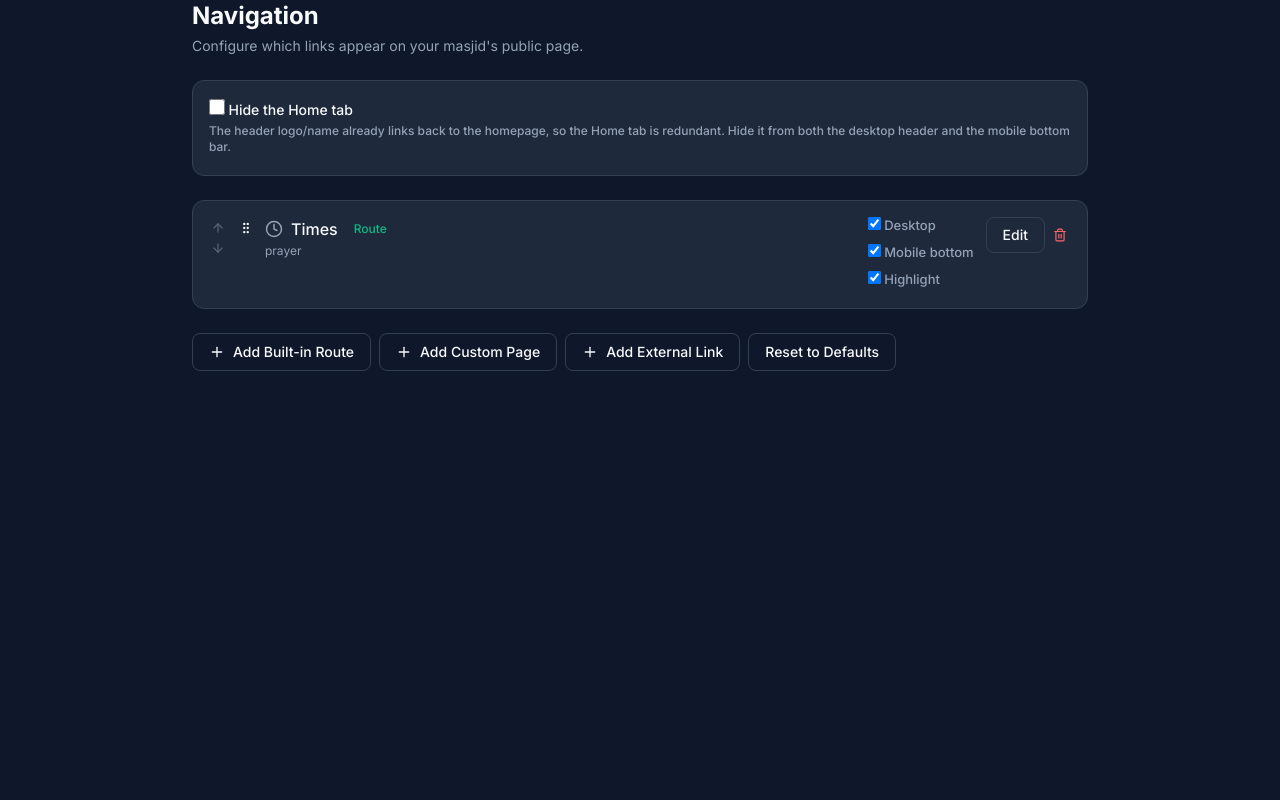
Scenario: Navigation settings page › delete › shows confirmation dialog on delete click
Expected: the text "Times" is shown, [291,216,338,240]
Click the 3rd button at (1060, 235), box [1049,224,1071,246]
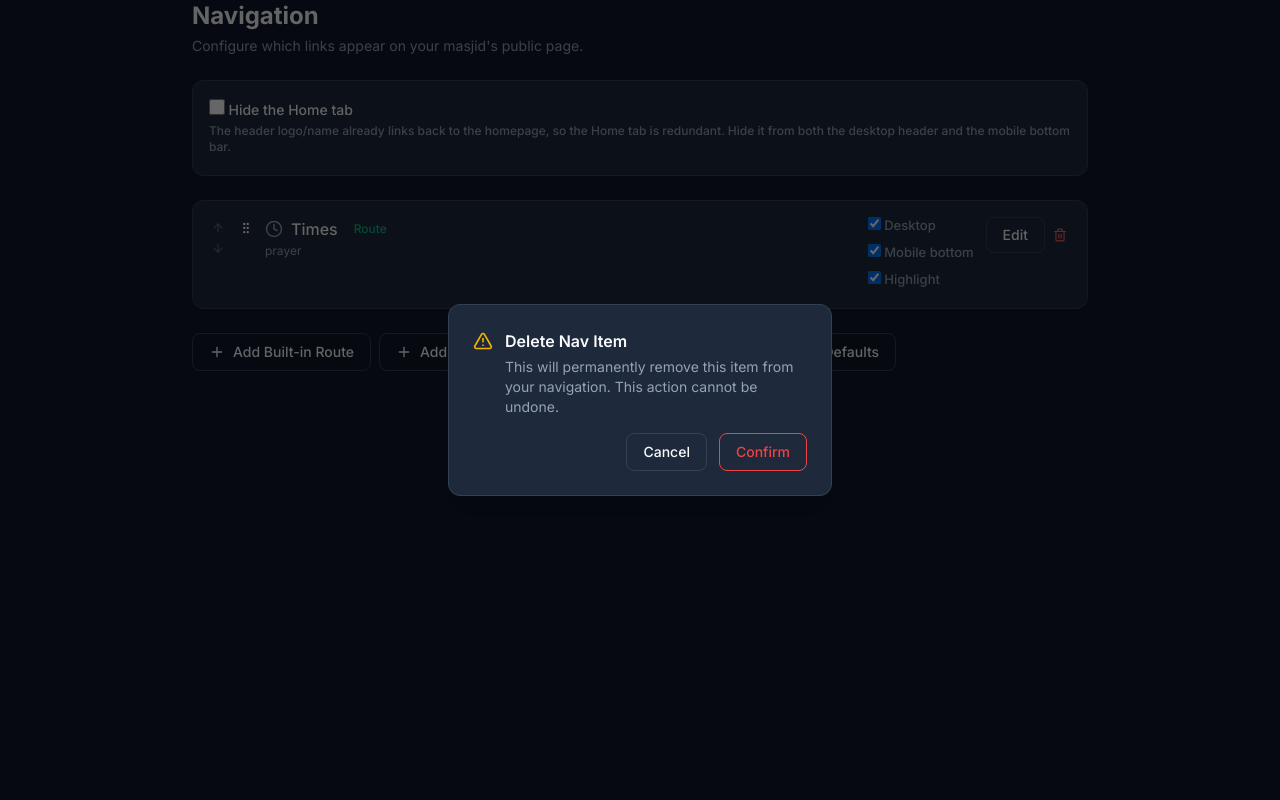
Expected: the heading "Delete Nav Item" is shown, [505,331,627,351]
